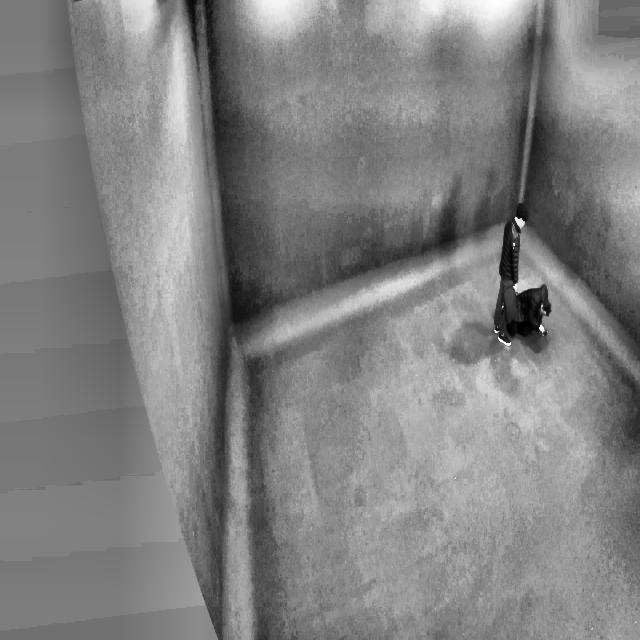assult: (494, 199, 554, 357)
